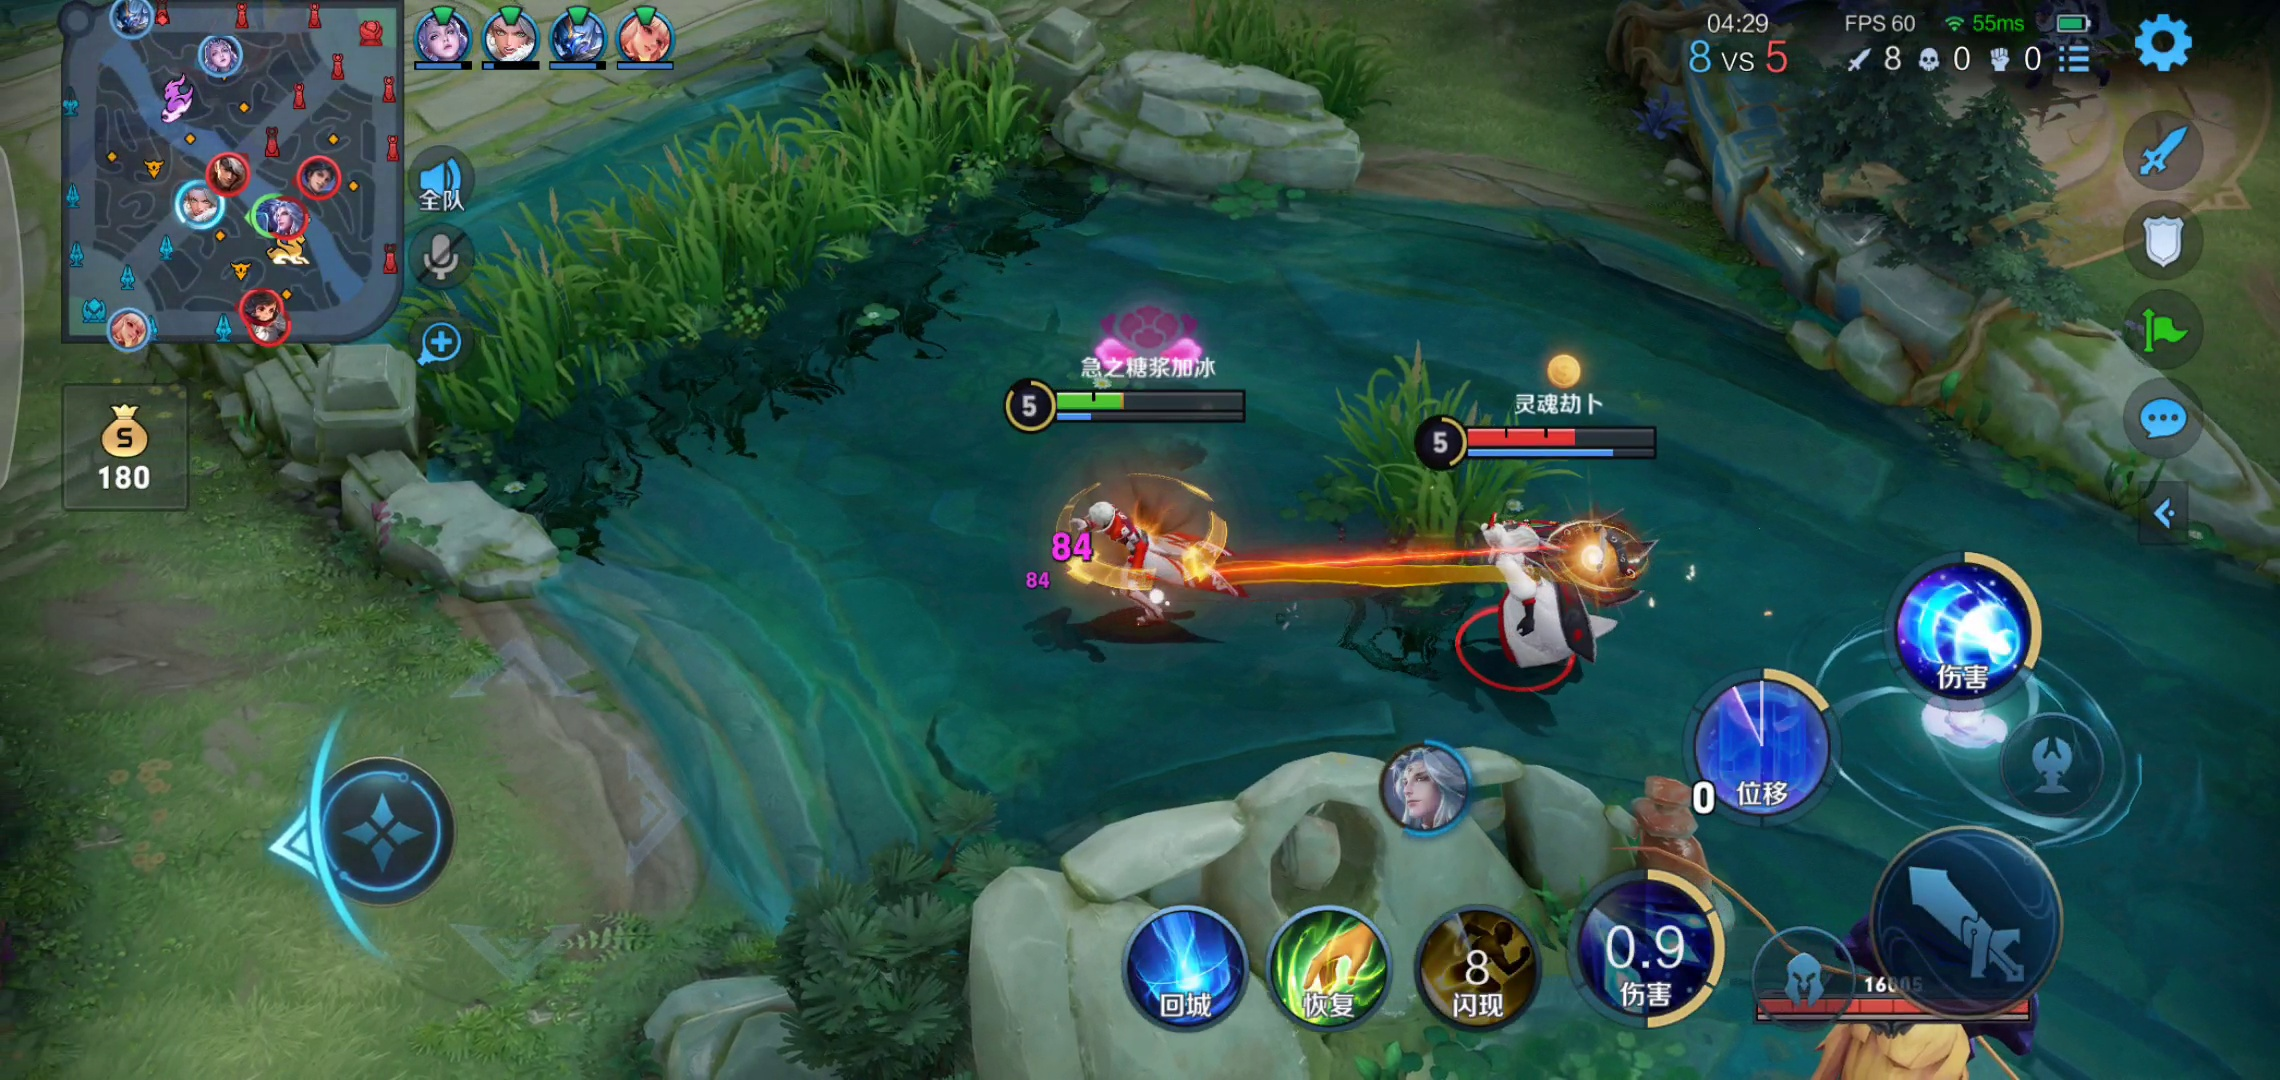dragon: (1767, 906, 2092, 1079)
grass: (369, 60, 1037, 438), (1316, 363, 1530, 584), (1168, 1, 1413, 121)
hero: (1477, 515, 1658, 698), (1050, 493, 1239, 629)
